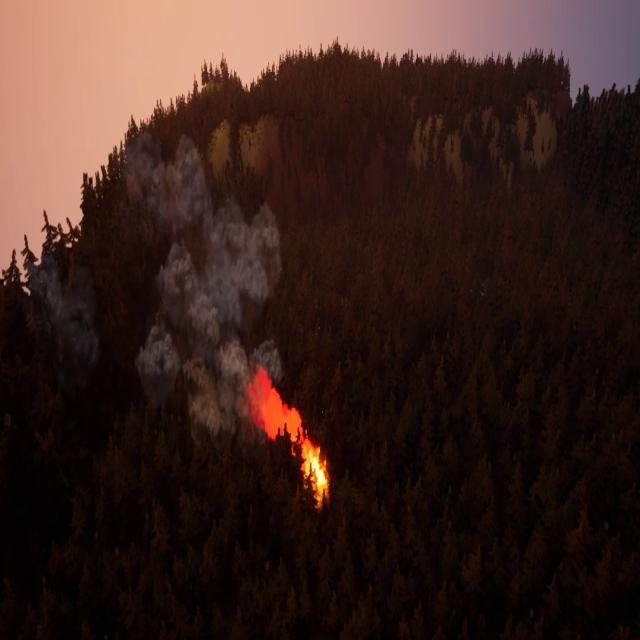fire: (250, 366, 330, 512)
smoke: (121, 138, 275, 440)
